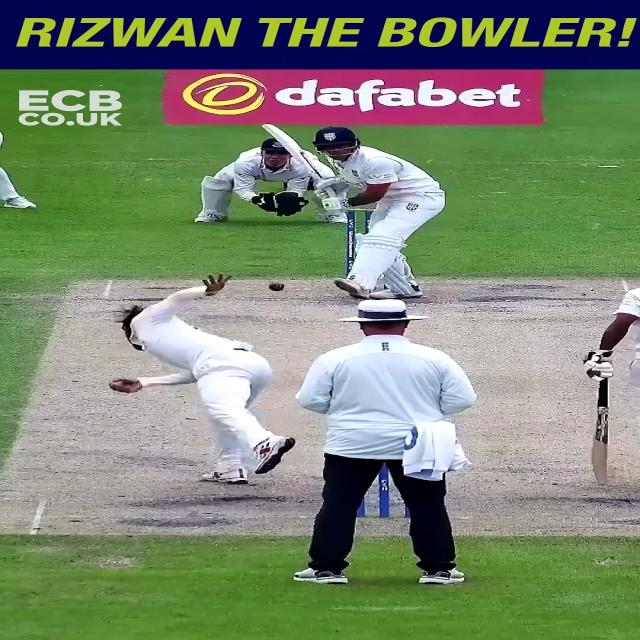cricketBall: (268, 282, 286, 292)
